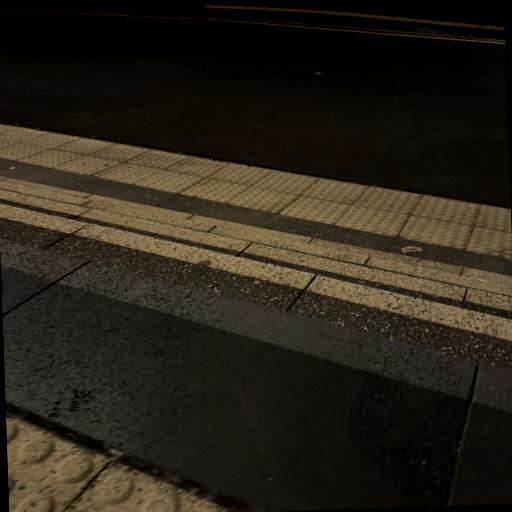stairs: (0, 178, 512, 341)
